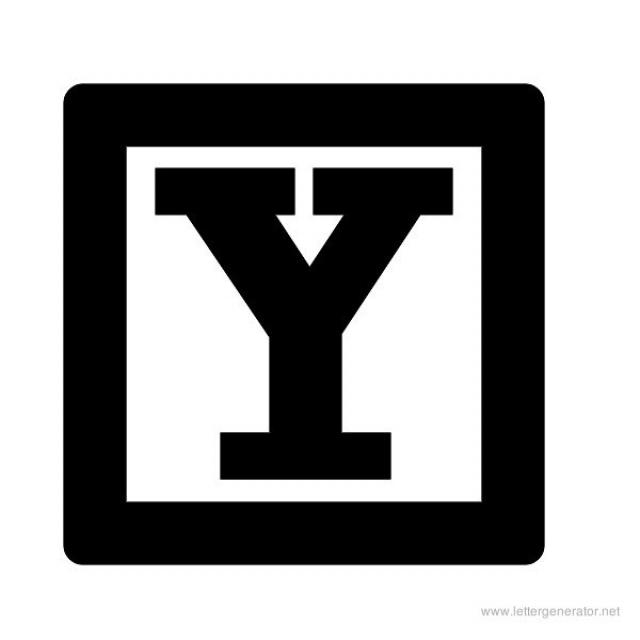Y: (146, 156, 468, 488)
